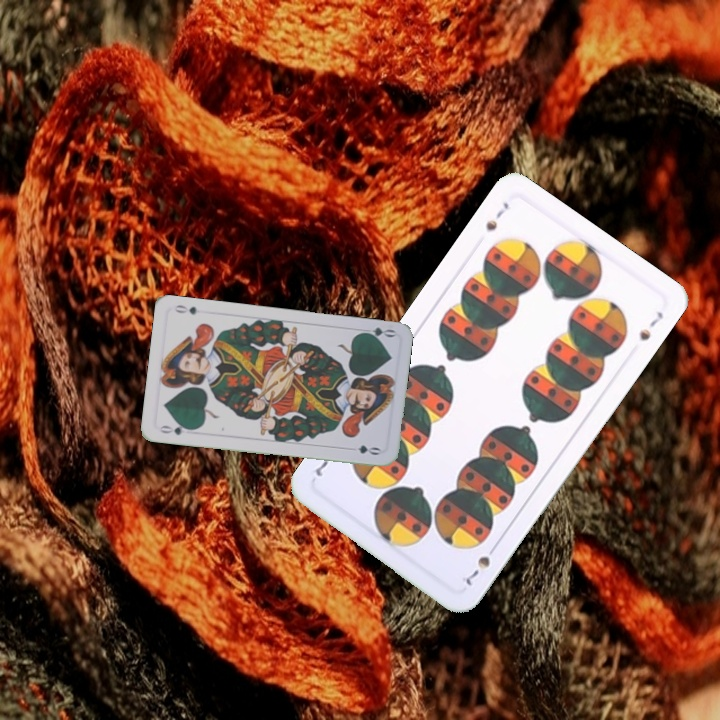GO: (356, 323, 397, 342), (155, 420, 196, 438)
S7: (461, 540, 501, 588), (481, 197, 512, 234)
